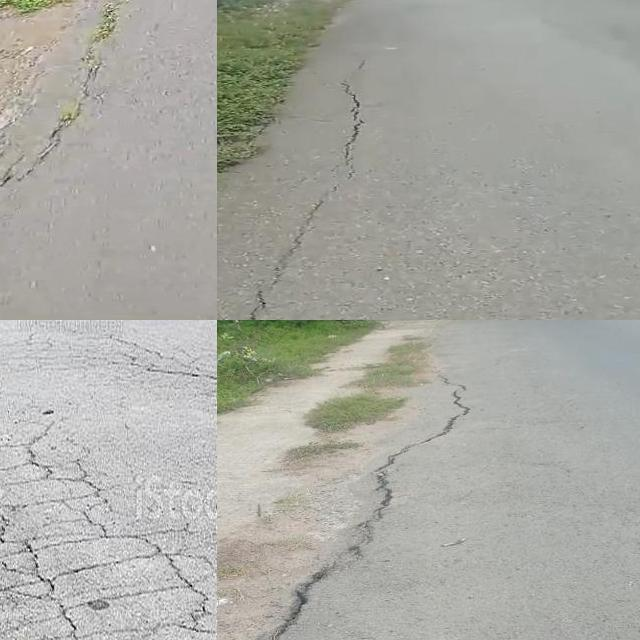Memanjang: (245, 374, 496, 640)
Pinggir: (217, 0, 362, 210)
